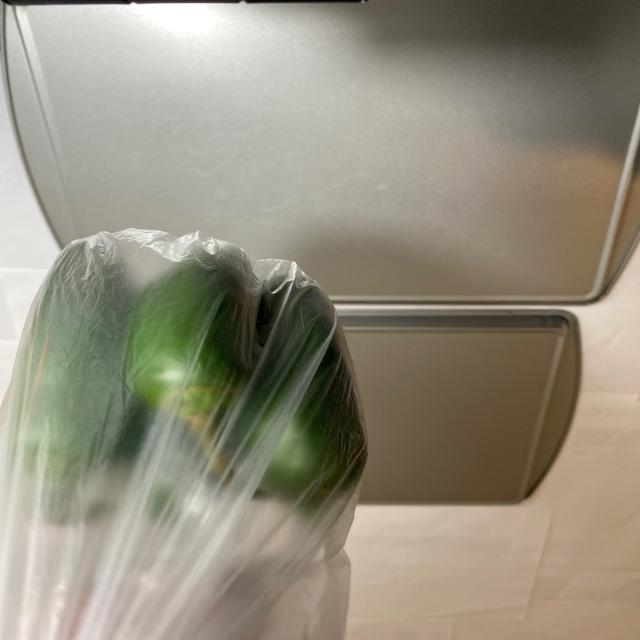chilli: (0, 234, 379, 562)
